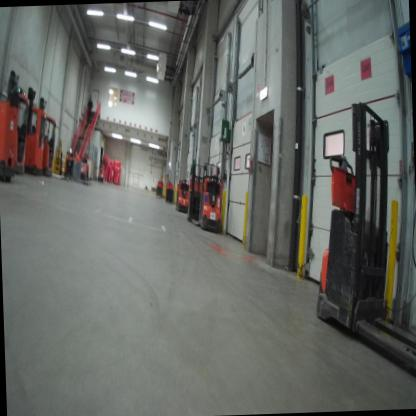forklift: (0, 58, 33, 184), (15, 80, 48, 180), (33, 92, 60, 193)
pallet_truck: (303, 89, 416, 394), (184, 154, 229, 235), (53, 139, 83, 192), (172, 173, 192, 213), (79, 152, 98, 191), (163, 177, 176, 208), (95, 156, 107, 183), (155, 176, 165, 205)
